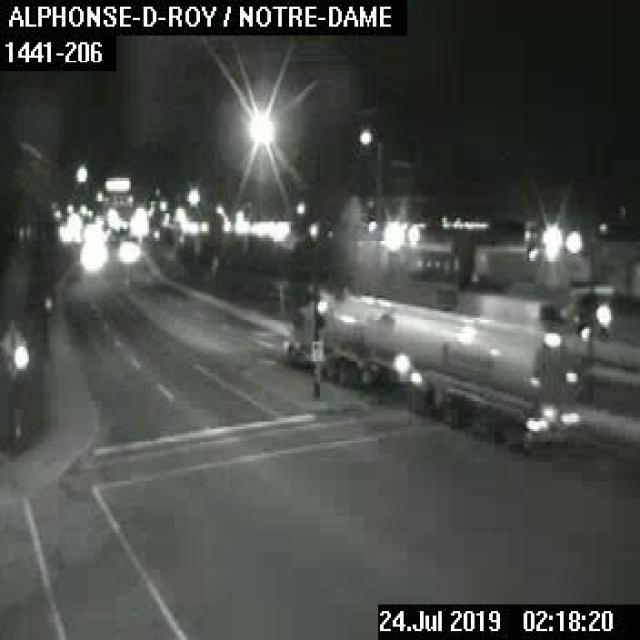vehicle: (284, 287, 594, 442)
